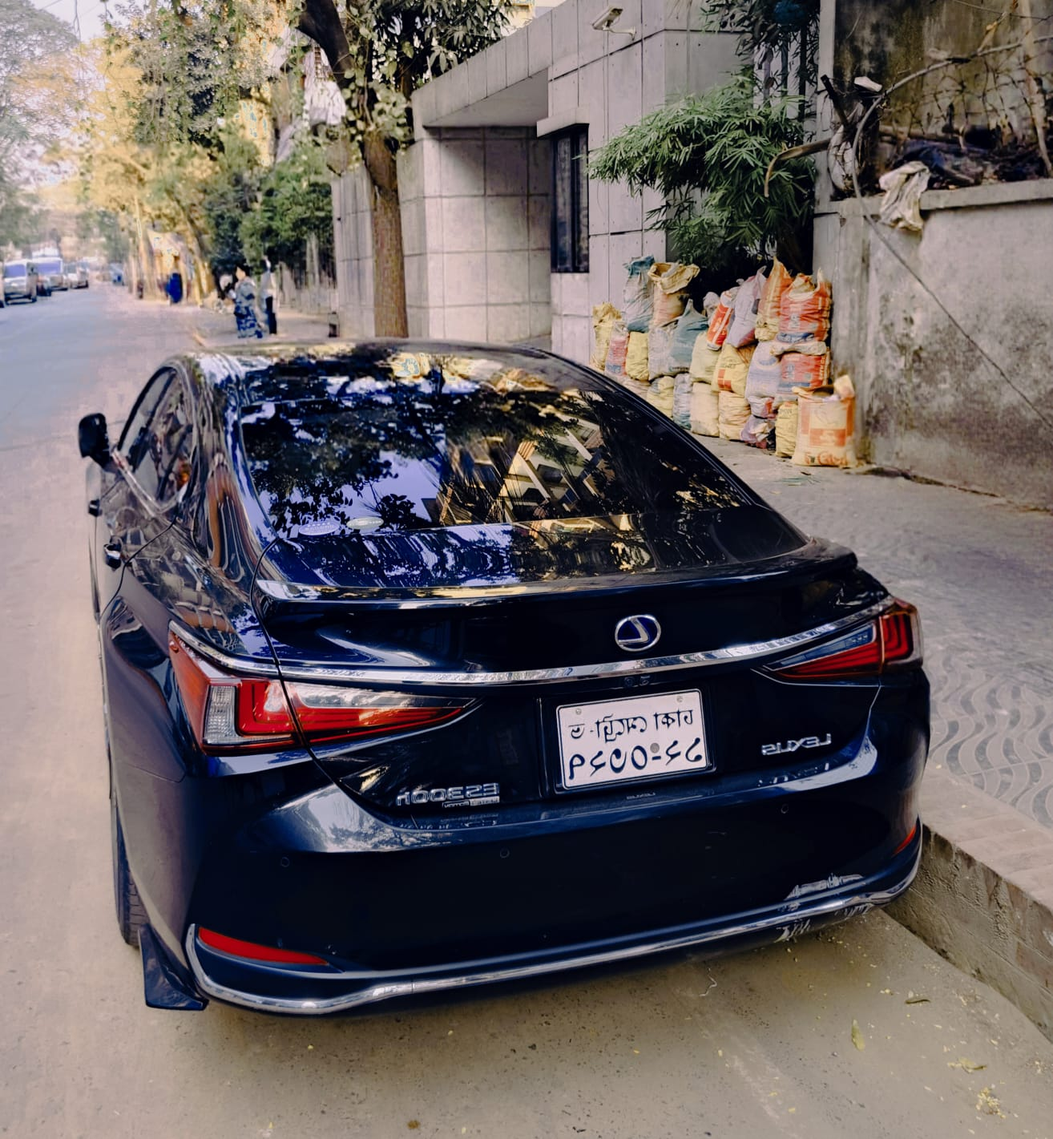private car: (69, 322, 959, 1028)
